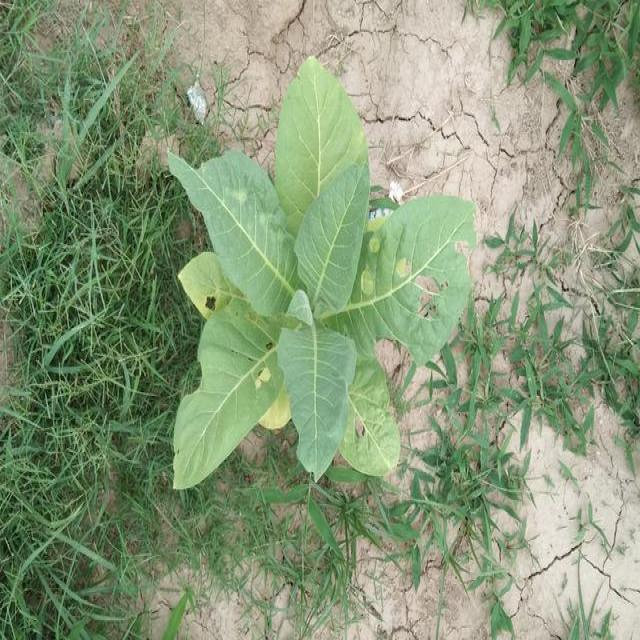crop: (155, 51, 485, 491)
